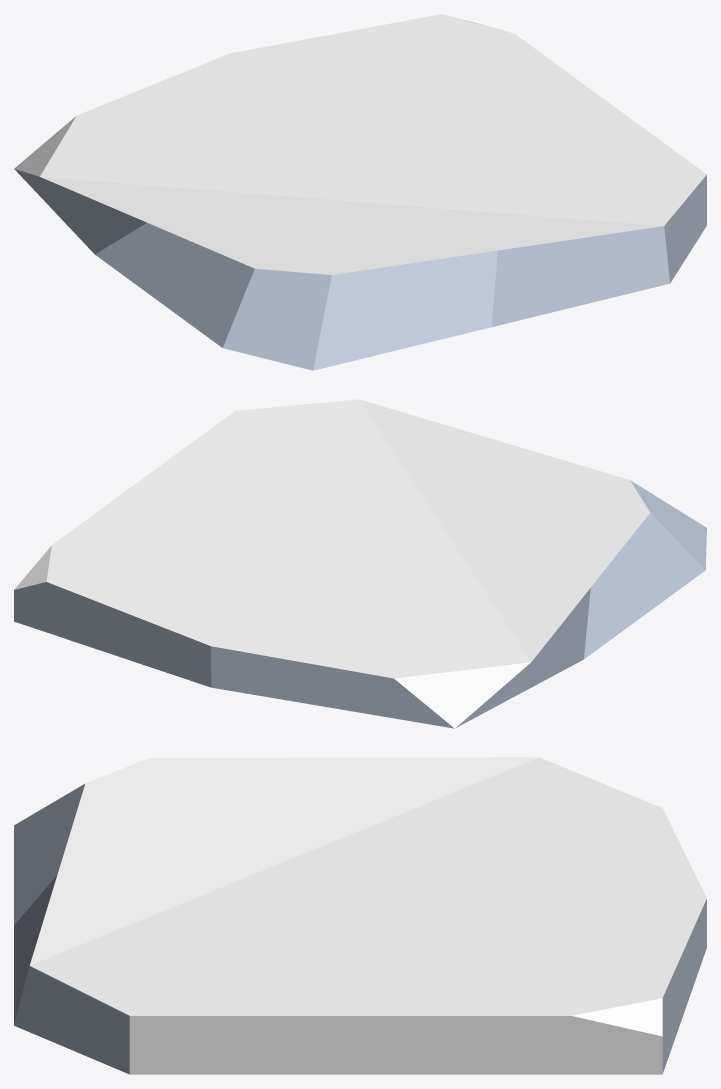
File: stone.glb
3 views of the same model, one above another, from view 1: azimuth 30°, elevation 25°; view 2: azimuth 150°, elevation 25°; view 3: azimuth 270°, elevation 25° (orthographic). The views are drawn at different scales.
Visible parts, largest first — view 1: Stone; view 2: Stone; view 3: Stone.
Part boxes in pixels (x1=…): Stone: x1=14, y1=14, x2=706, y2=370; Stone: x1=14, y1=399, x2=706, y2=728; Stone: x1=14, y1=757, x2=706, y2=1074.
Bounding box in the file's own units: 1.13 × 0.1349 × 1.21.
Materials: 1 (1 with a texture image).
